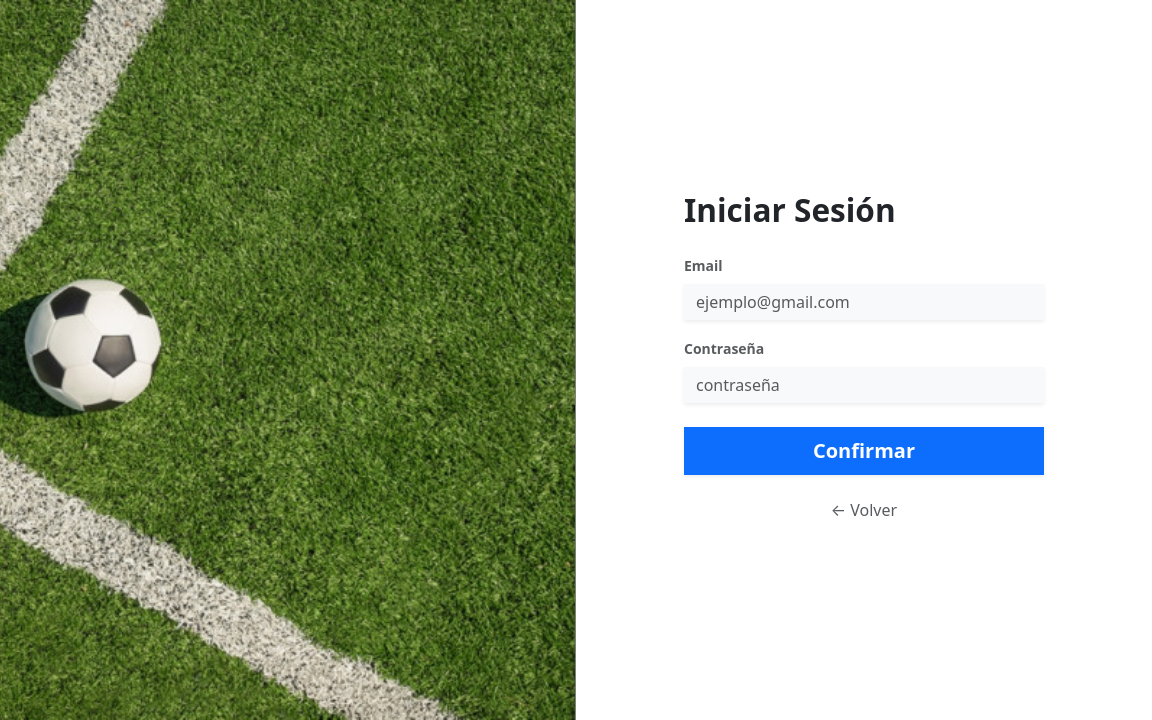
Test case: FormInicioSesion › muestra errores cuando los campos obligatorios están vacíos
Click the button "Confirmar" at x=864, y=451, box [684, 427, 1044, 475]
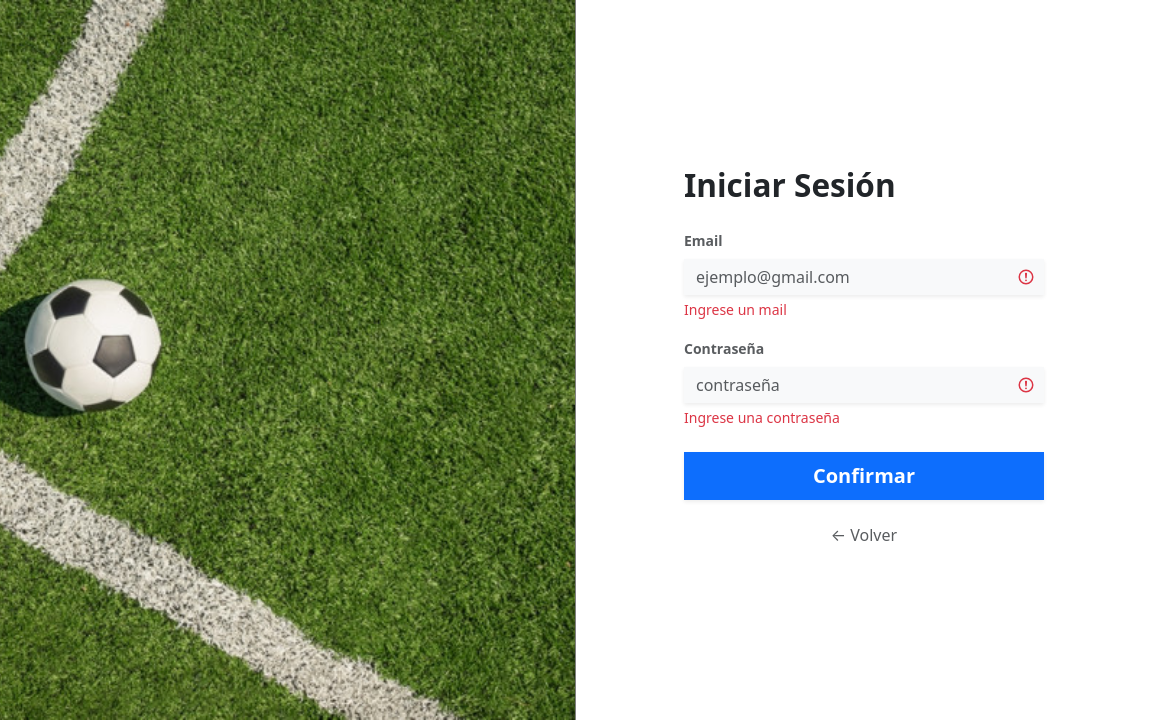
Result: the text "Ingrese un mail" is shown at [684, 300, 787, 319]
Result: the text "Ingrese una contraseña" is shown at [684, 408, 840, 427]
